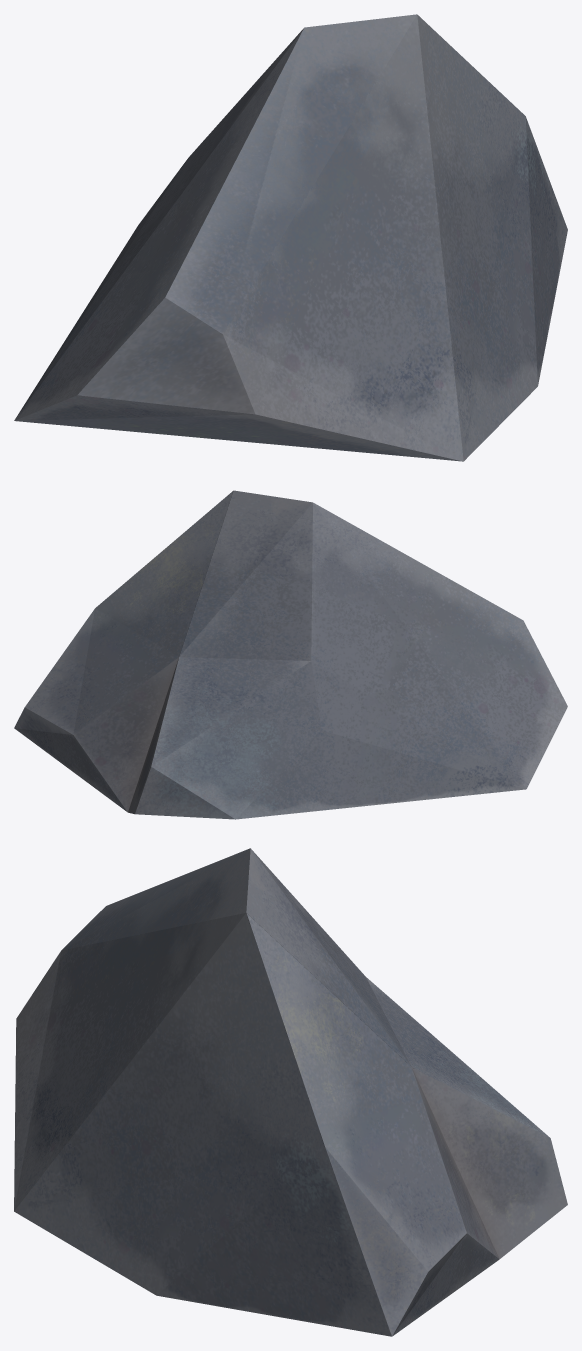
Rendered from stylized_rock_09.fbx.
3 renders of one model, top to bottom at view 1: azimuth 30°, elevation 25°; view 2: azimuth 150°, elevation 25°; view 3: azimuth 270°, elevation 25°, orthographic. The views are drawn at different scales.
Parts seen in each view (by area): view 1: stylized_rock_09; view 2: stylized_rock_09; view 3: stylized_rock_09.
Boxes of the visible parts, box(x1,y1,x2,y2) form: stylized_rock_09: box(14, 14, 567, 461); stylized_rock_09: box(14, 490, 567, 819); stylized_rock_09: box(14, 848, 567, 1336).
Size of the model in its own units: 58.22 by 32.71 by 45.7.
